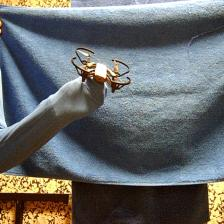drone: (72, 47, 131, 93)
